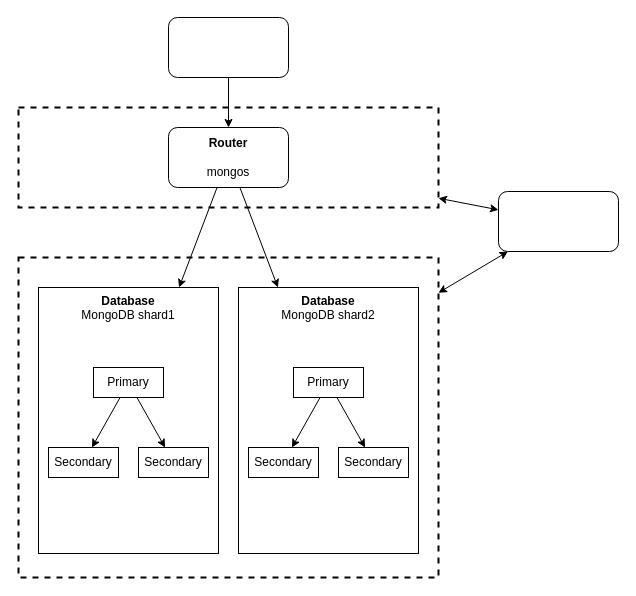
The diagram is 636 pixels wide and 596 high, and some of its shapes have lost their labels. Here are the shapes that lost their labels. From the top down, the centre of each, then its label:
At (x=228, y=47): "microservice pymongo-api".
At (x=558, y=221): "configSrv".
